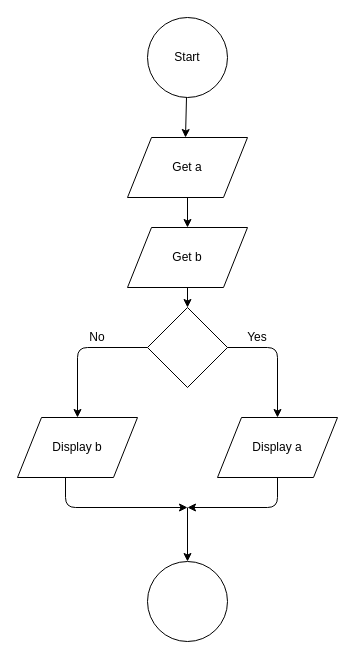
The diagram is 355 pixels wide and 659 high, and some of its shapes have lost their labels. The shapes that lost their labels are listed below. From the top down, each one's centre as x and y in pixels, then its label:
the point at 187,347: a > b ?
the point at 187,601: End
